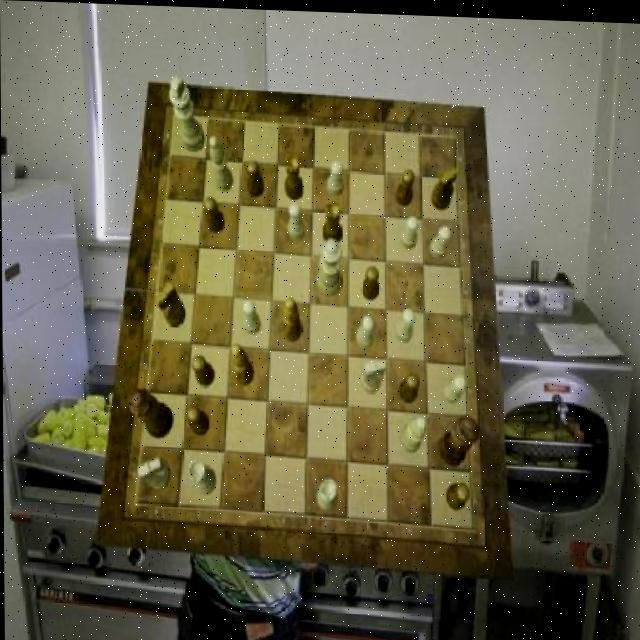bishop: (231, 342, 255, 385), (282, 294, 302, 340)
black-bishop: (438, 411, 479, 465)
black-king: (155, 280, 186, 326), (431, 163, 459, 208)
black-knight: (193, 353, 216, 386), (204, 195, 224, 232), (398, 370, 419, 402), (396, 167, 414, 204), (446, 479, 469, 507), (187, 406, 210, 434), (247, 160, 264, 196), (362, 263, 379, 298)
black-pawn: (130, 385, 174, 437)
black-queen: (323, 200, 343, 244), (286, 153, 303, 199)
black-rook: (208, 134, 233, 191), (399, 413, 427, 452)
white-bishop: (170, 74, 206, 150)
white-king: (137, 456, 170, 490), (361, 355, 387, 390)
white-knight: (429, 221, 452, 256), (396, 304, 416, 339), (400, 213, 420, 248), (442, 372, 466, 400), (242, 298, 261, 333), (289, 201, 306, 239), (356, 312, 373, 347), (327, 159, 344, 194)
white-pawn: (317, 235, 343, 294)
white-queen: (189, 458, 216, 493), (315, 475, 338, 510)
